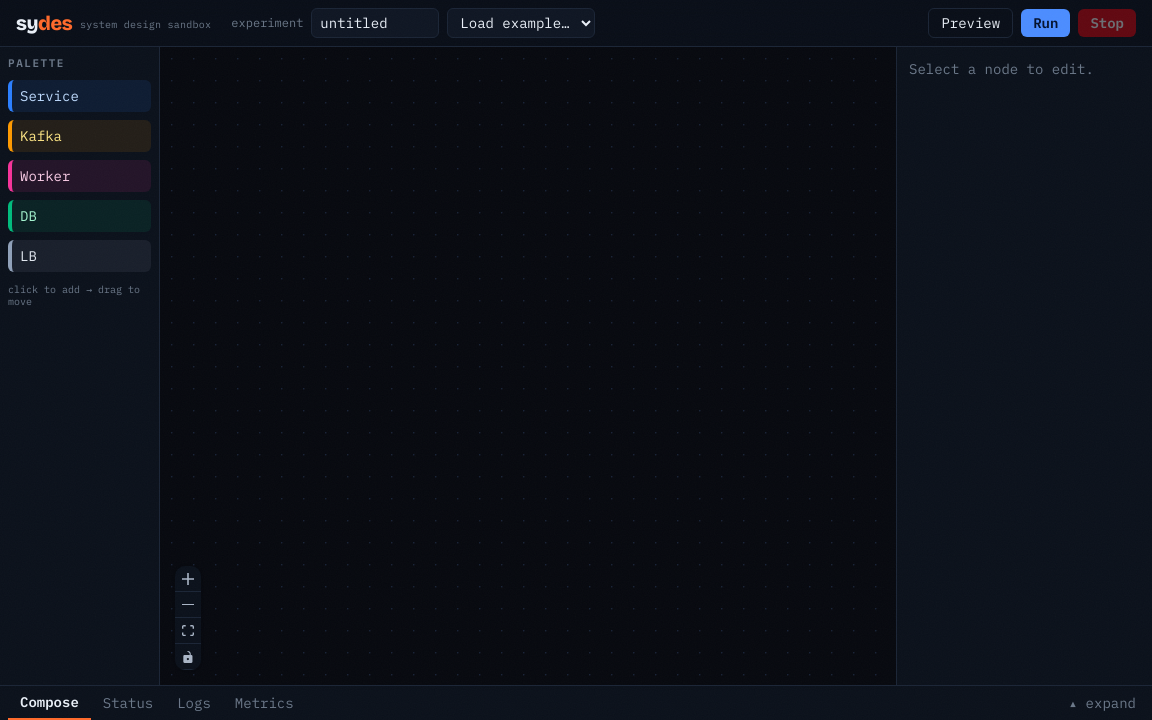
it: App brick 3 › shows the "Warming up…" badge immediately after Run
The width and height of the screenshot is (1152, 720).
Click the button "Run": (1046, 23) x1=1021 y1=9 x2=1070 y2=37
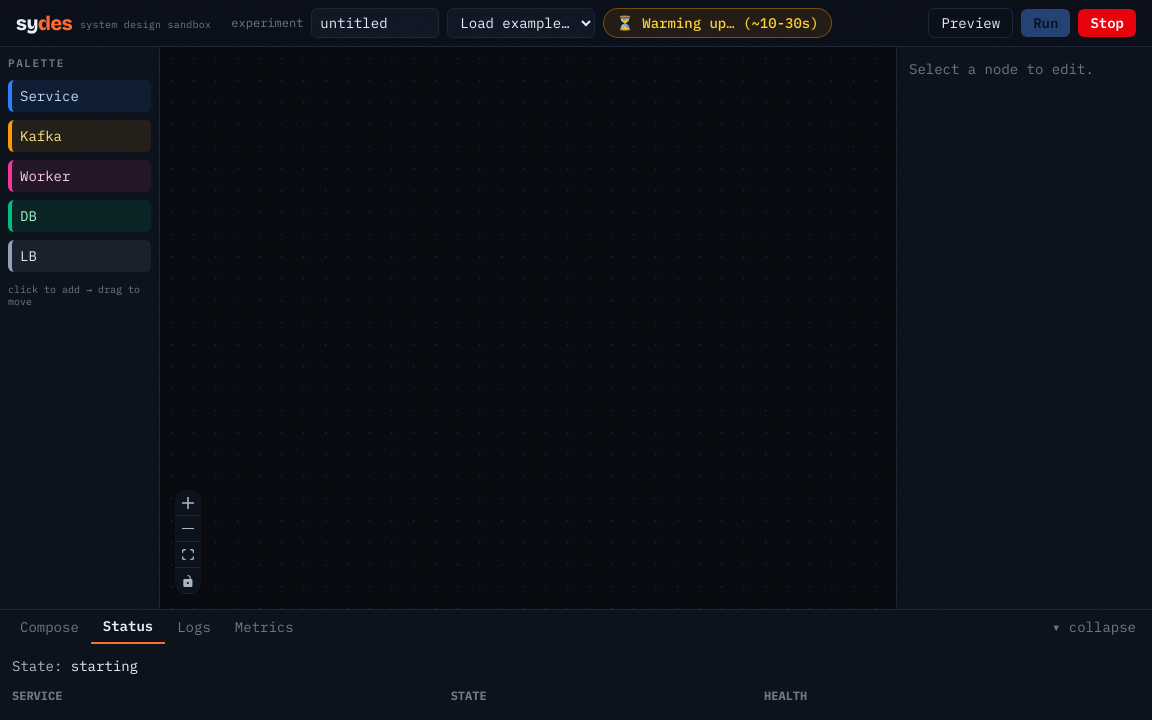
Check: the text "⏳ Warming up… (~10-30s)" is shown, box x1=603 y1=8 x2=832 y2=38
